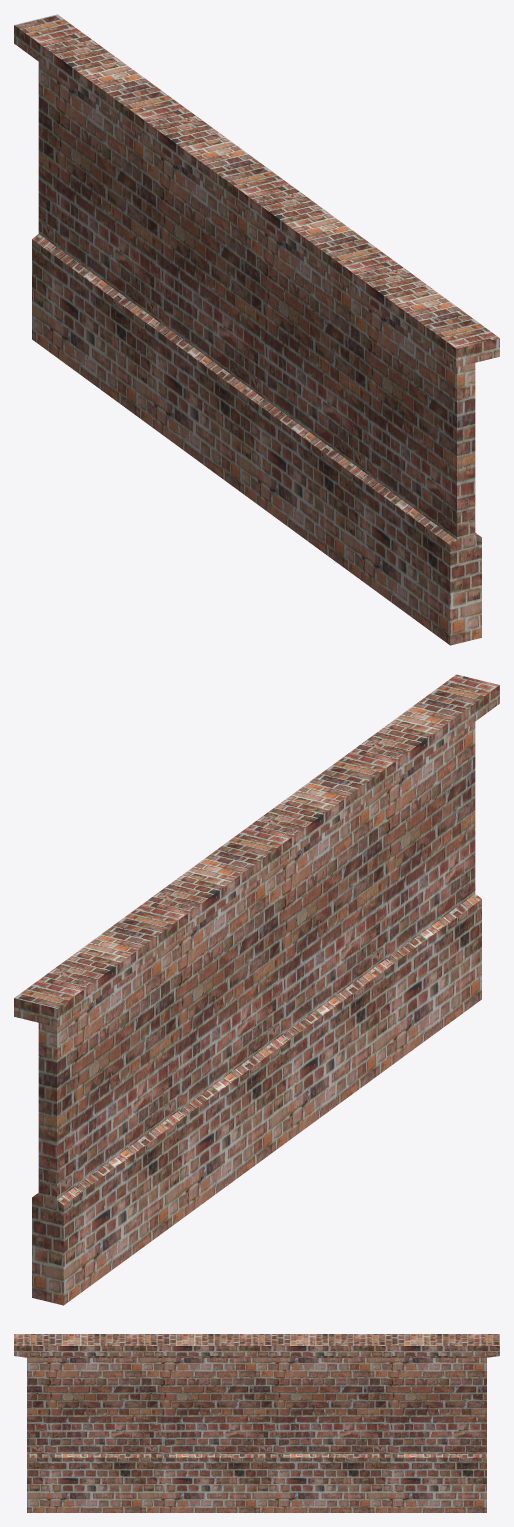
File: wall.fbx
3 views of the same model, one above another, from view 1: azimuth 30°, elevation 25°; view 2: azimuth 150°, elevation 25°; view 3: azimuth 270°, elevation 25° (orthographic). The views are drawn at different scales.
Visible parts, largest first — view 1: Box001; view 2: Box001; view 3: Box001.
Boxes of the visible parts, box(x1,y1,x2,y2) form: Box001: box(14, 14, 499, 645); Box001: box(14, 674, 499, 1305); Box001: box(14, 1334, 499, 1512).
Bounding box in the file's own units: 6.35 × 42.72 × 112.
Materials: 1 (1 with a texture image).
